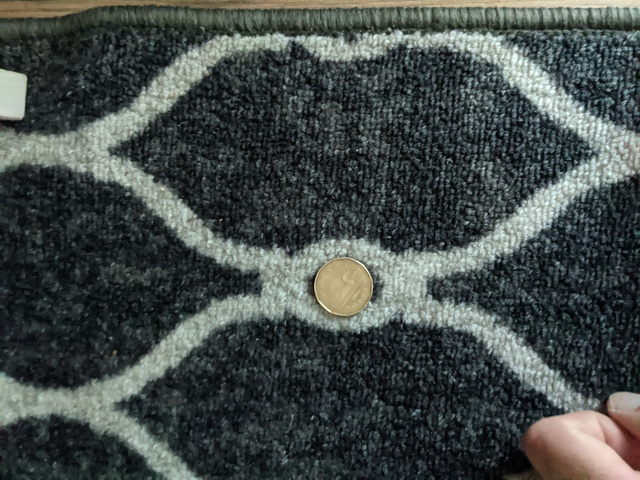loonie: (305, 249, 378, 322)
